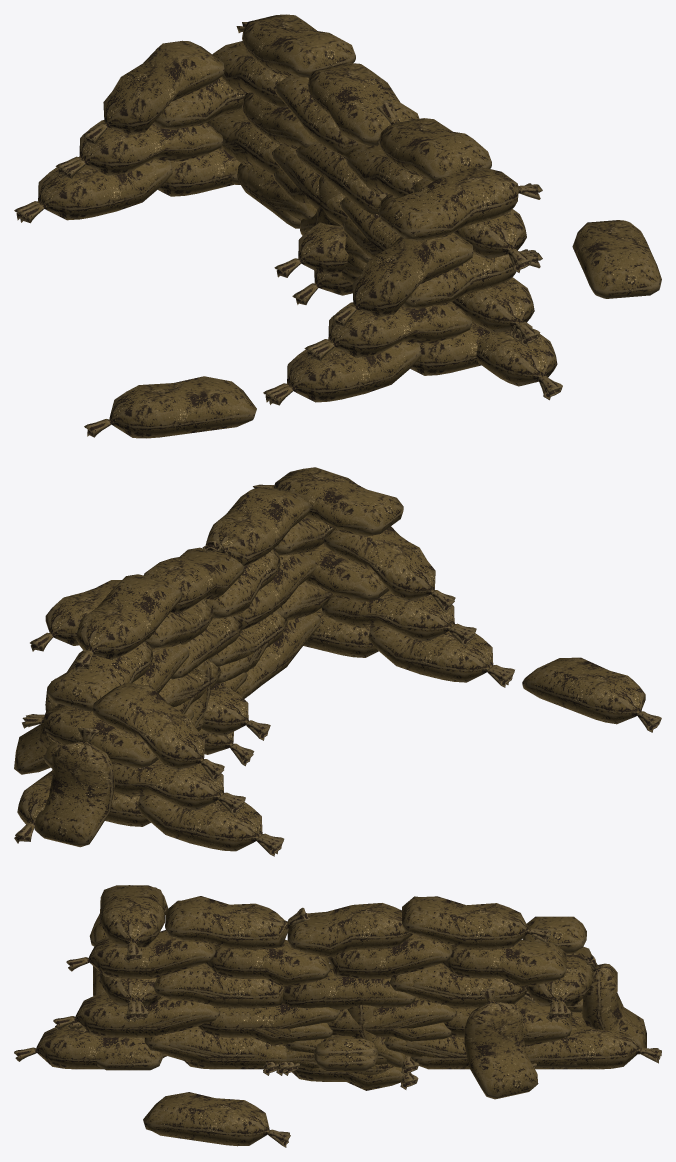
The model's file is bags.fbx.
The picture shows the model from 3 angles, top to bottom: view 1: azimuth 30°, elevation 25°; view 2: azimuth 150°, elevation 25°; view 3: azimuth 270°, elevation 25°; orthographic projection. The views are drawn at different scales.
Visible parts, largest first — view 1: bags_3, bags_1, bags_2, bags_4, bag_5, bag_6, bag_2; view 2: bags_3, bags_1, bags_2, bags_4, bag_5, bag_6, bag_2; view 3: bags_3, bags_2, bags_1, bags_4, bag_4, bag_2, bag_5, bag_6, bag_3.
Boxes of the visible parts, <box> form: bags_3: <box>18,14,661,405</box>; bags_1: <box>14,109,536,438</box>; bags_2: <box>219,99,562,400</box>; bags_4: <box>237,163,398,263</box>; bag_5: <box>274,222,348,277</box>; bag_6: <box>292,270,352,304</box>; bag_2: <box>300,176,341,235</box>; bags_3: <box>25,467,514,854</box>; bags_1: <box>14,545,661,856</box>; bags_2: <box>14,552,332,843</box>; bags_4: <box>174,621,292,713</box>; bag_5: <box>202,686,270,740</box>; bag_6: <box>204,731,254,766</box>; bag_2: <box>189,659,211,727</box>; bags_3: <box>66,885,646,1147</box>; bags_2: <box>14,964,661,1075</box>; bags_1: <box>75,885,593,1099</box>; bags_4: <box>163,1003,469,1075</box>; bag_4: <box>263,1066,404,1090</box>; bag_2: <box>347,1005,405,1067</box>; bag_5: <box>314,1038,377,1056</box>; bag_6: <box>314,1035,378,1071</box>; bag_3: <box>297,1061,418,1089</box>.
Bounding box in the file's own units: 4.48 × 1.52 × 4.82.
